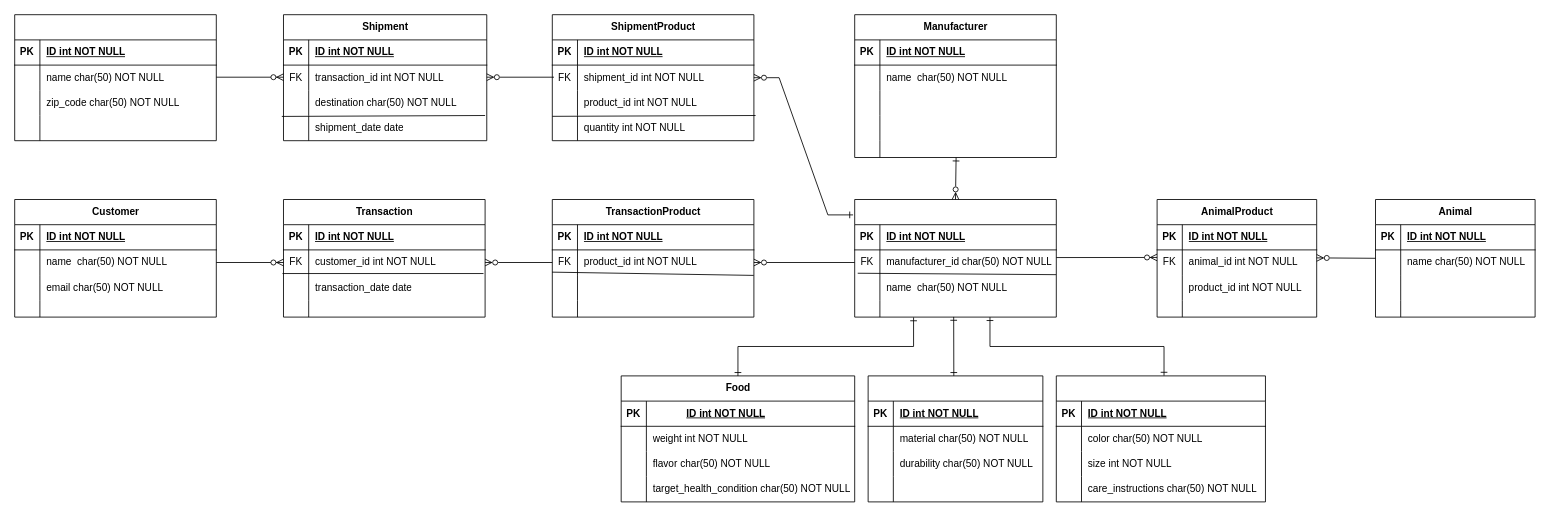
Image size: 1550x517. Some labels were removed from this diagram. Each missing label, with the box of its shape:
Apparel: (1055, 375, 1265, 502)
Location: (14, 14, 216, 141)
Product: (854, 199, 1056, 317)
Toy: (867, 375, 1043, 502)
